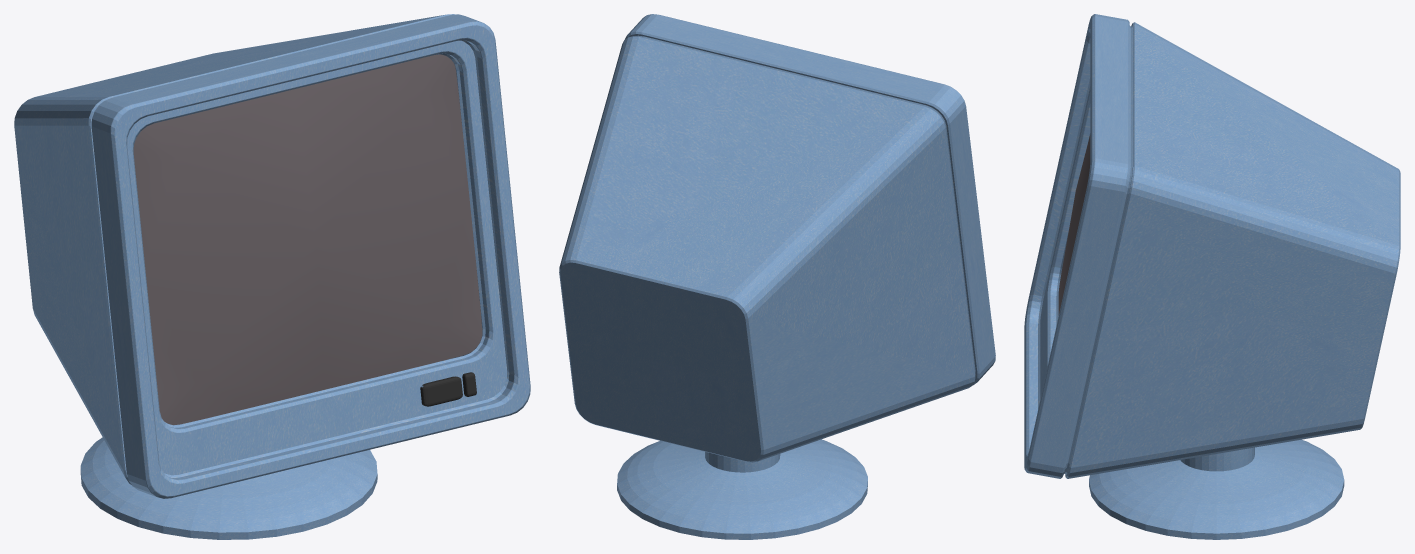
Rendered from Monitor.fbx.
3 renders of one model, left to right at view 1: azimuth 30°, elevation 25°; view 2: azimuth 150°, elevation 25°; view 3: azimuth 270°, elevation 25°, orthographic. The views are drawn at different scales.
Parts seen in each view (by area): view 1: Monitor, Monitor.001; view 2: Monitor; view 3: Monitor, Monitor.001.
Part boxes in pixels (bbox=[...]): Monitor: bbox=[14, 14, 530, 539]; Monitor.001: bbox=[133, 54, 482, 425]; Monitor: bbox=[559, 14, 995, 539]; Monitor: bbox=[1024, 14, 1400, 539]; Monitor.001: bbox=[1058, 135, 1090, 315].
Size of the model in its own units: 406 by 471 by 400.
